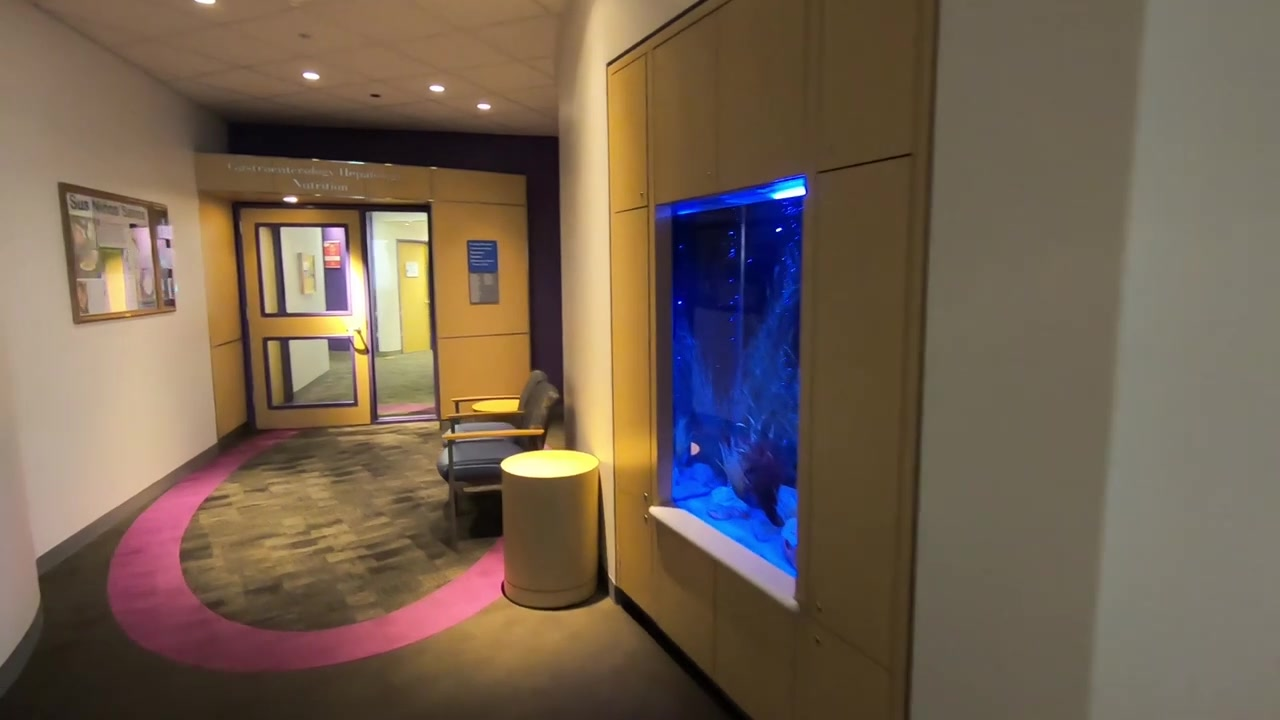chair: (440, 380, 559, 552), (444, 367, 549, 440)
door_handle: (343, 318, 368, 338)
table: (500, 447, 603, 612)
